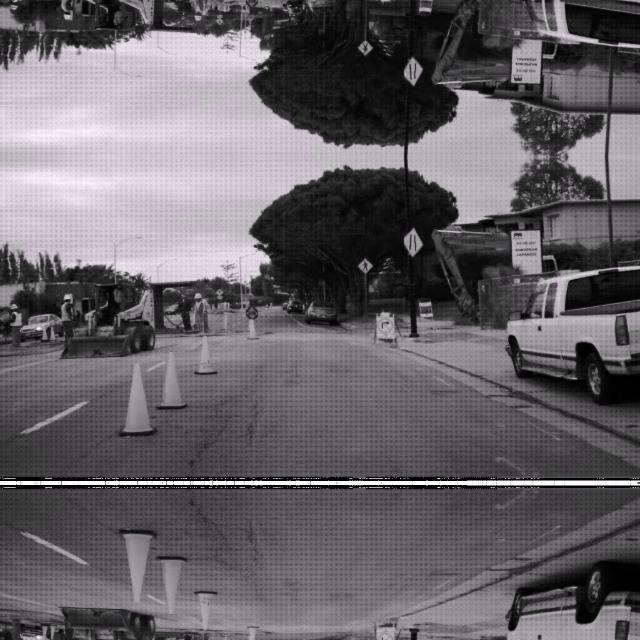pedestrianCrossing: (358, 256, 372, 272), (358, 40, 372, 56)
